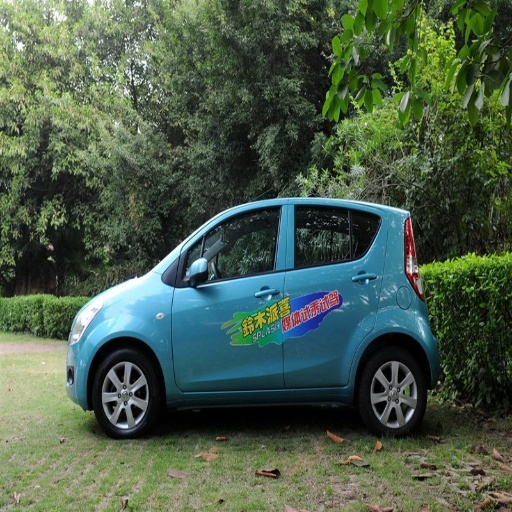back_left_door: (285, 202, 382, 388)
front_left_door: (172, 203, 287, 393)
